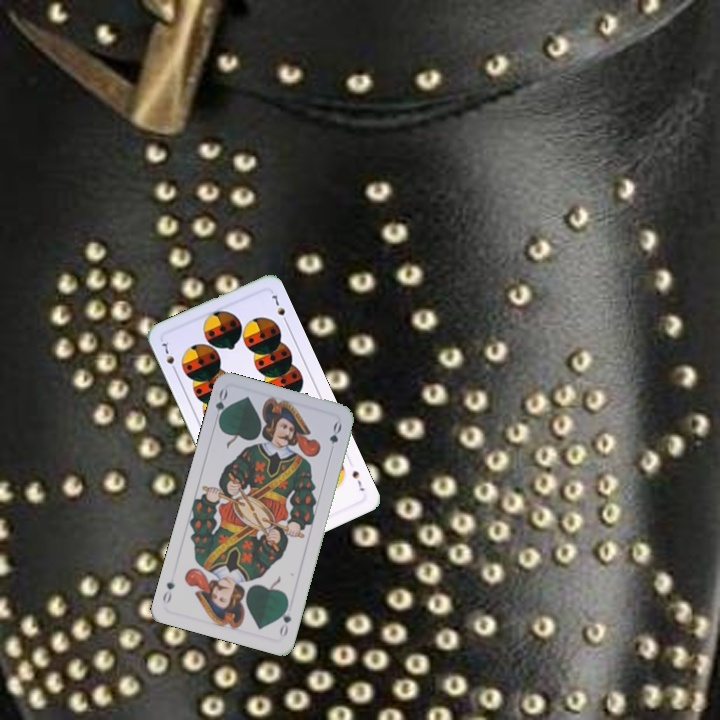GO: (210, 385, 231, 427), (275, 599, 294, 639)
S7: (158, 338, 179, 376), (348, 467, 367, 494)
